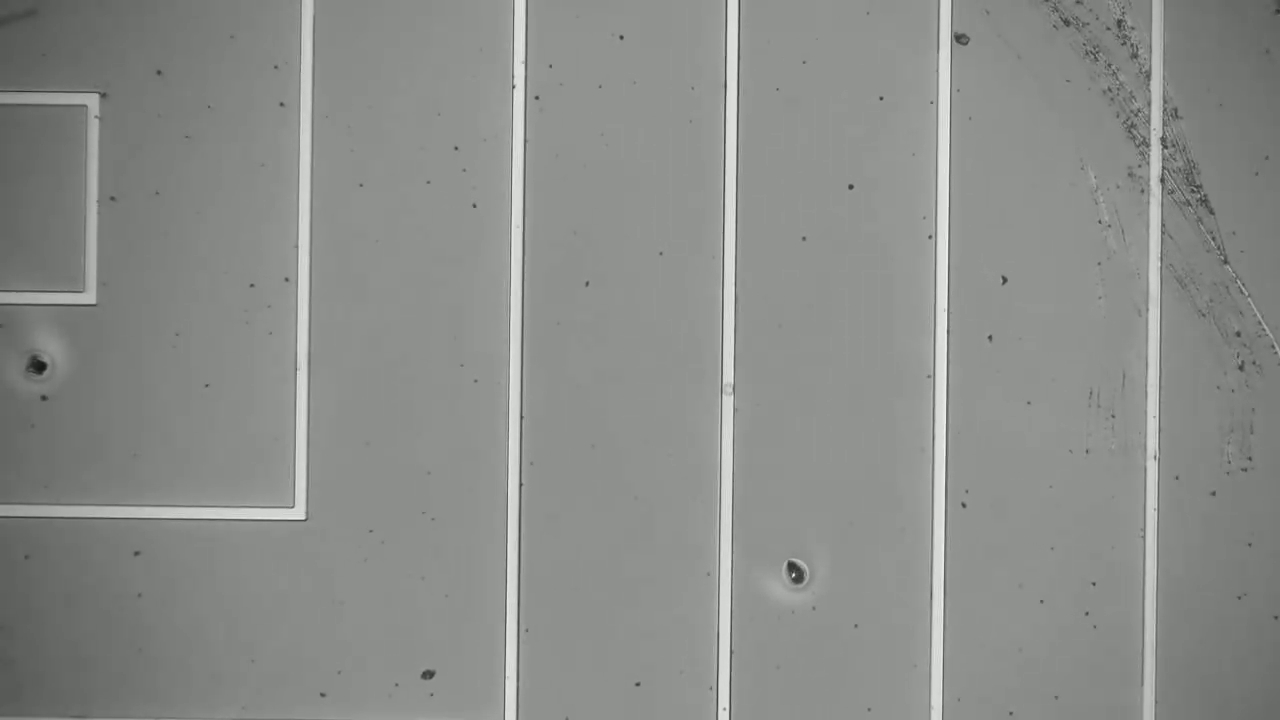scratch: (1016, 1, 1257, 349)
